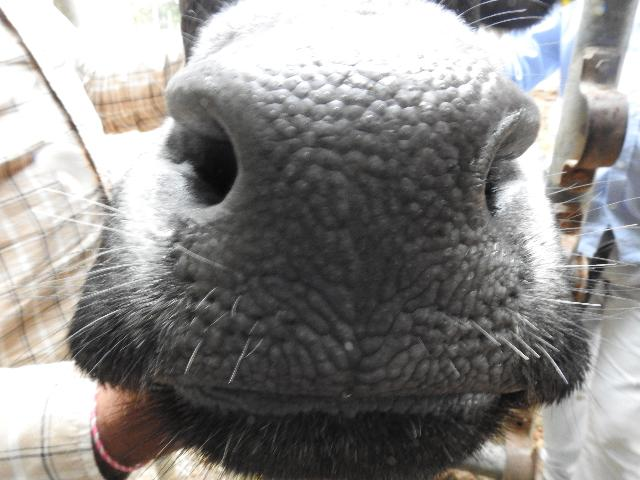Muzzle: (218, 56, 490, 396)
